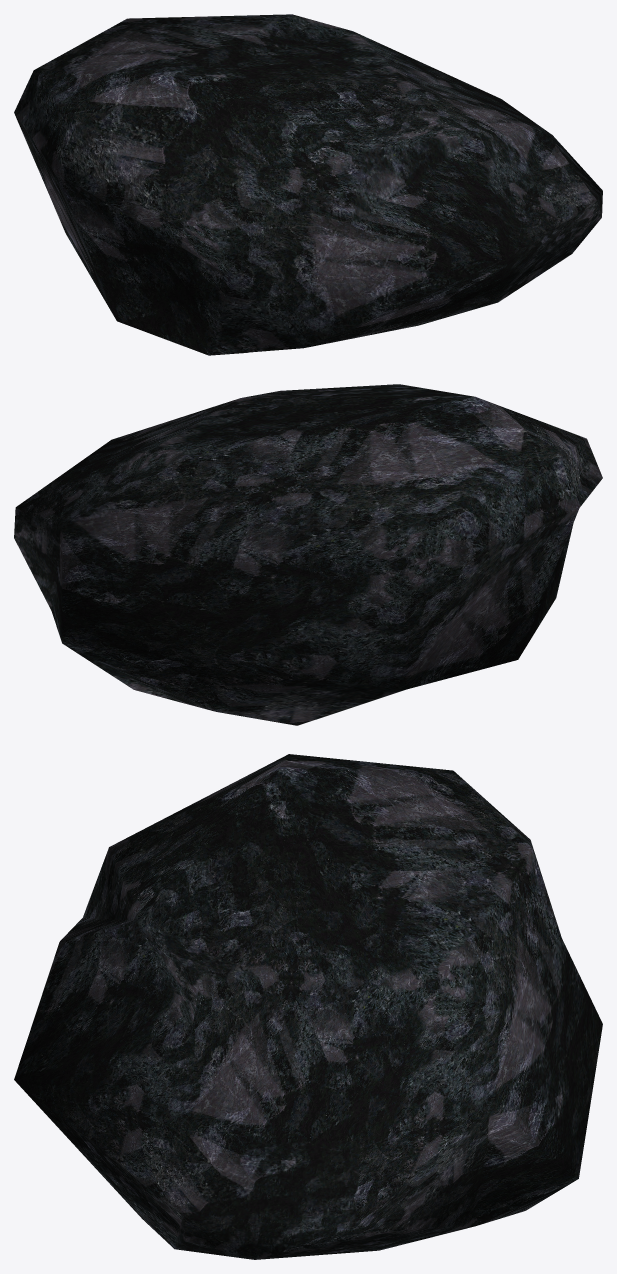
Rendered from asteroid_obsidian_radial_s03_l1.fbx.
The picture shows the model from 3 angles, top to bottom: view 1: azimuth 30°, elevation 25°; view 2: azimuth 150°, elevation 25°; view 3: azimuth 270°, elevation 25°; orthographic projection. The views are drawn at different scales.
Parts seen in each view (by area): view 1: mesh_node; view 2: mesh_node; view 3: mesh_node.
Part boxes in pixels (x1,y1,x2,y2): mesh_node: (14,14,602,355); mesh_node: (14,384,602,725); mesh_node: (14,754,602,1259).
Bounding box in the file's own units: 5.98 × 3.24 × 4.88.
